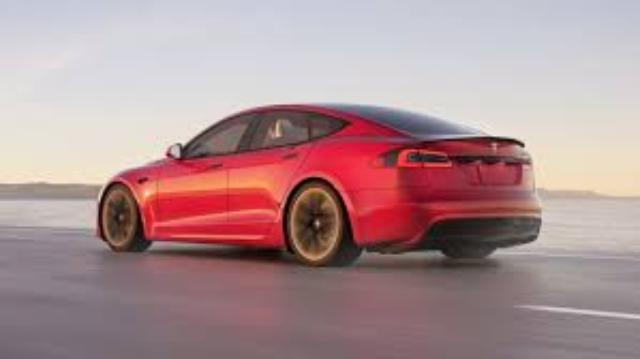tesla: (95, 103, 542, 267)
